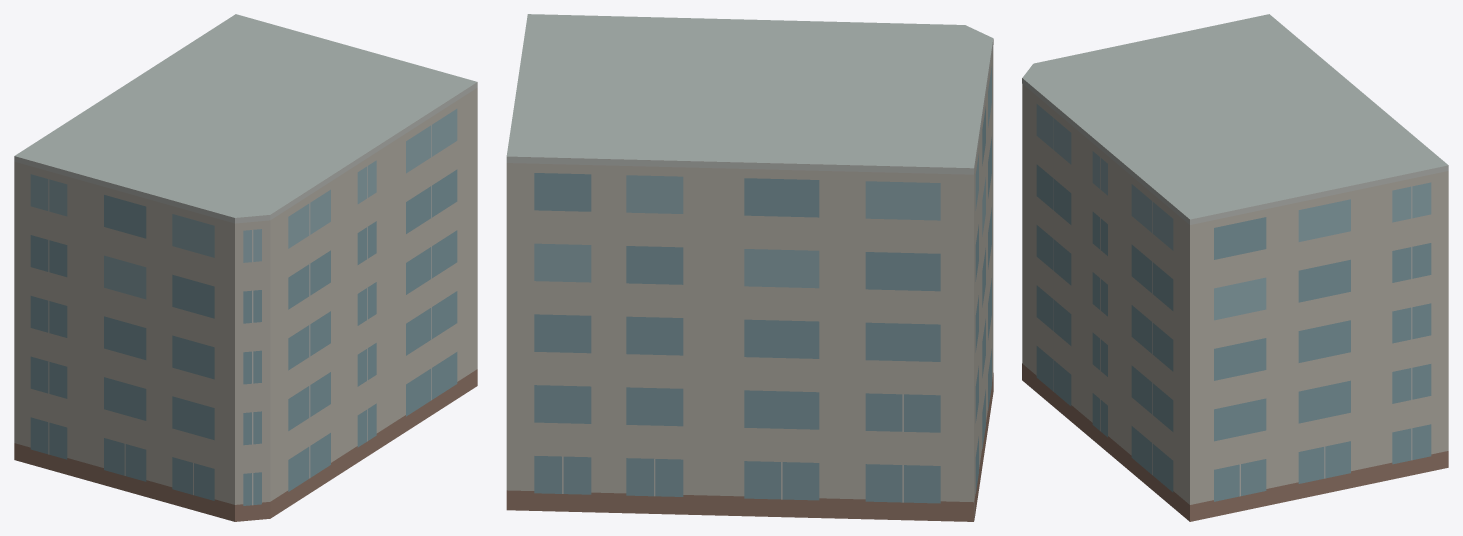
The model's file is survey-upis-32732582.glb.
3 renders of one model, left to right at view 1: azimuth 30°, elevation 25°; view 2: azimuth 150°, elevation 25°; view 3: azimuth 270°, elevation 25°, orthographic. The views are drawn at different scales.
Visible parts, largest first — view 1: survey-upis-32732582.tmp; view 2: survey-upis-32732582.tmp; view 3: survey-upis-32732582.tmp.
Boxes of the visible parts, x1,y1,x2,y2 form: survey-upis-32732582.tmp: (14,14,477,521); survey-upis-32732582.tmp: (506,14,993,521); survey-upis-32732582.tmp: (1022,14,1448,521).
Size of the model in its own units: 19.4 by 13.3 by 17.01.
